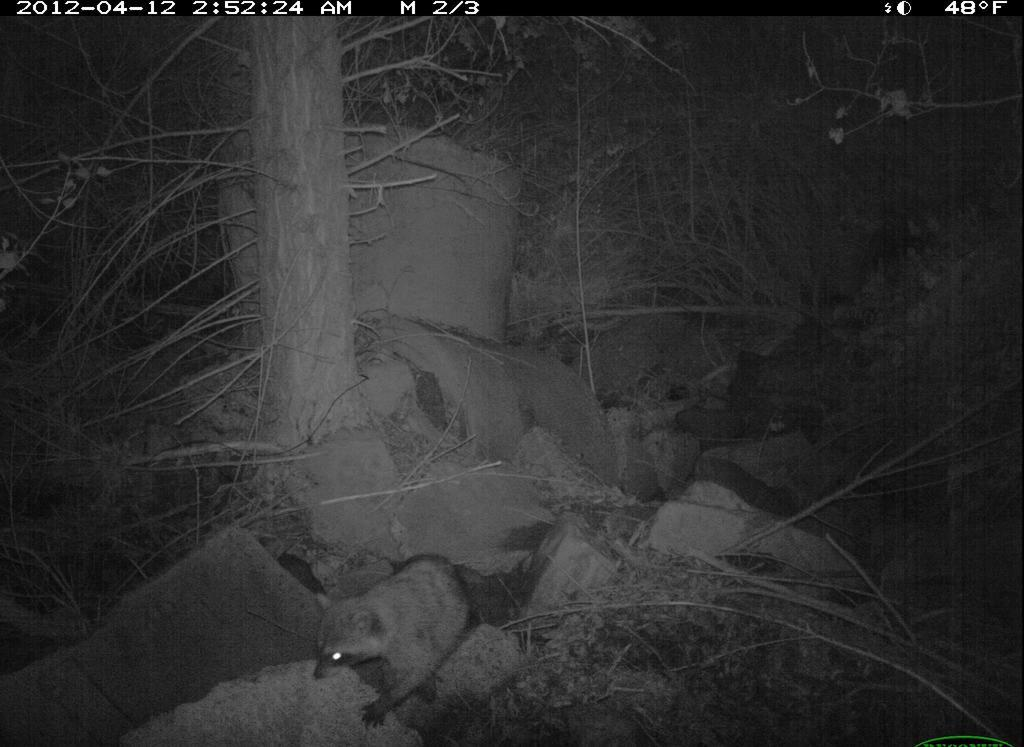raccoon: (289, 551, 487, 729)
